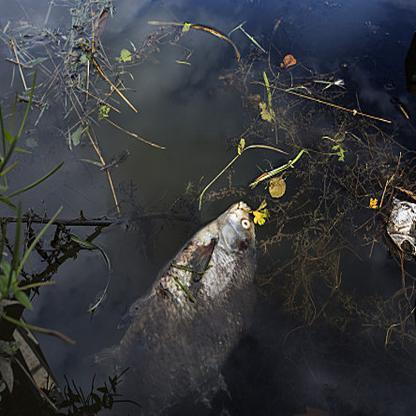deceased fish: (96, 200, 258, 412)
